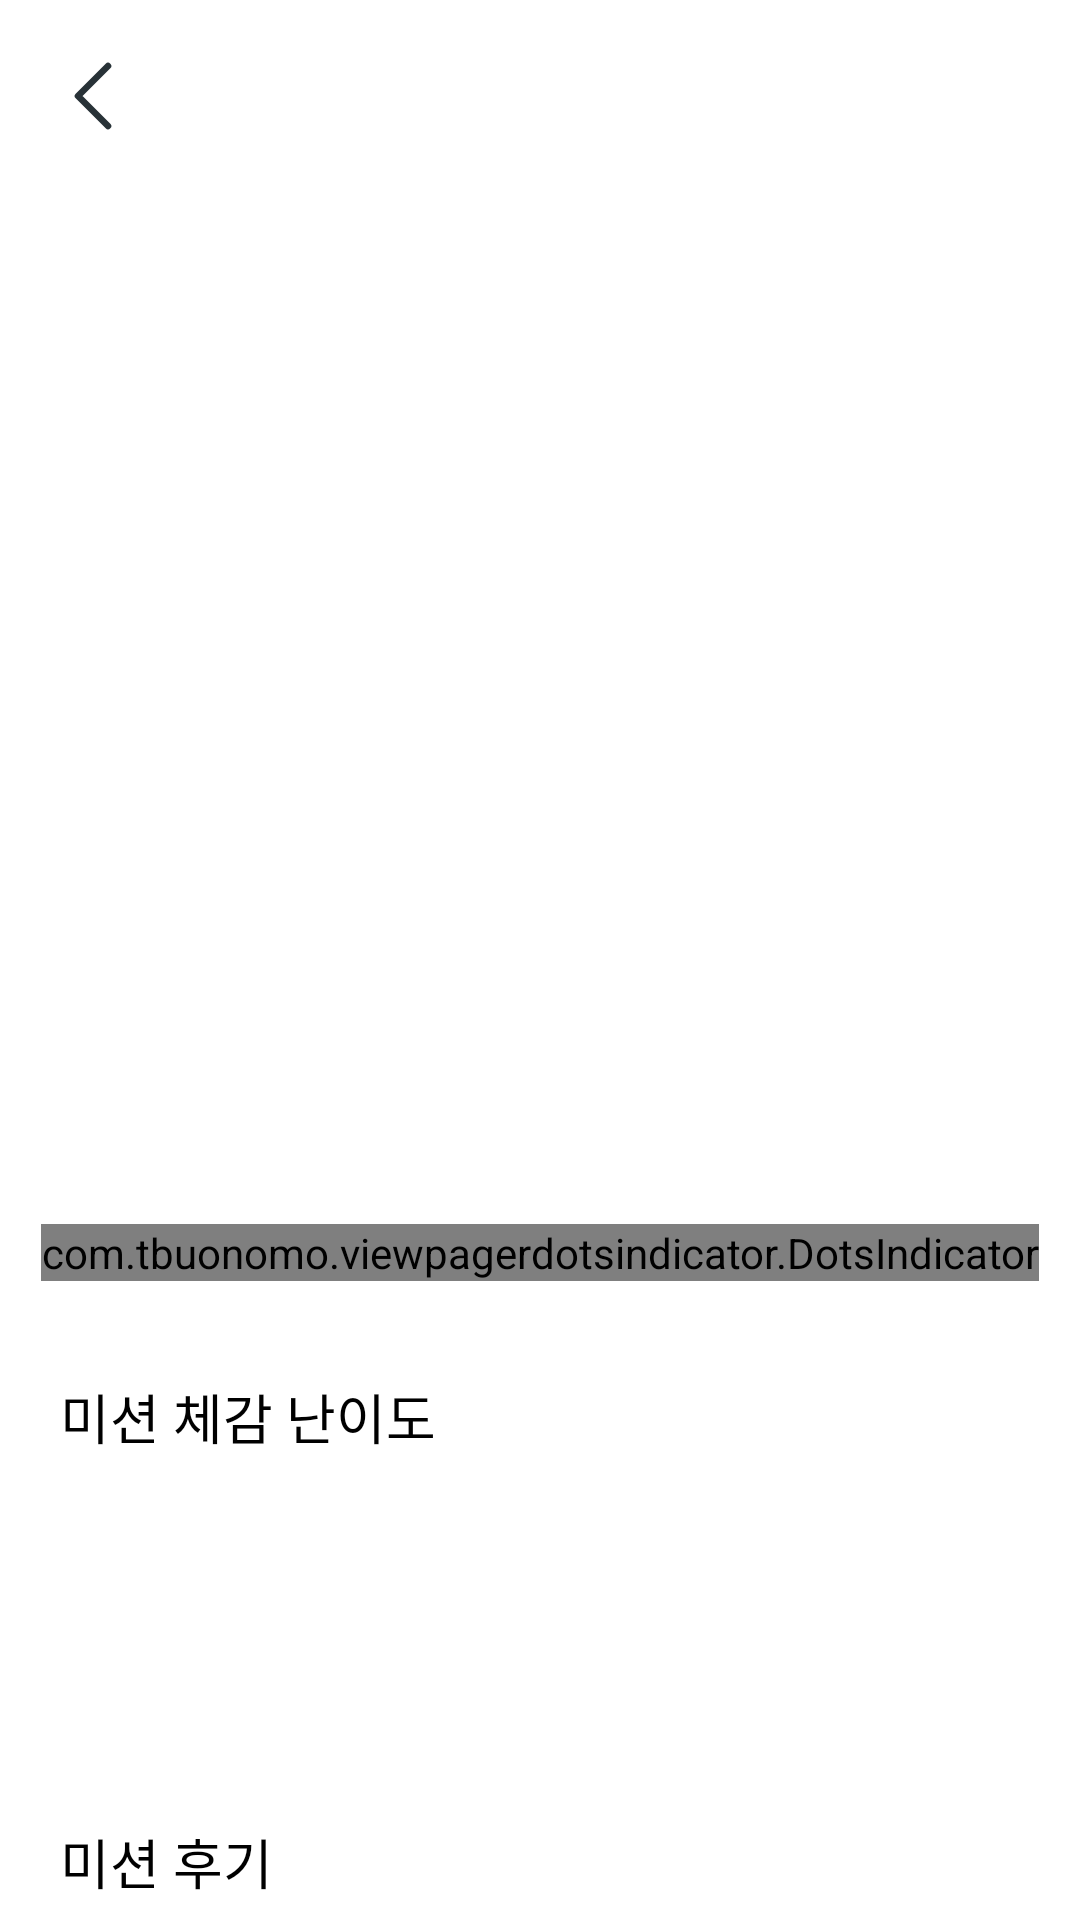

Icon bounding boxes for this 1080px x 1920px phone screenshot, format (x1, y1, x2, y2):
back: (74, 62, 112, 130)
